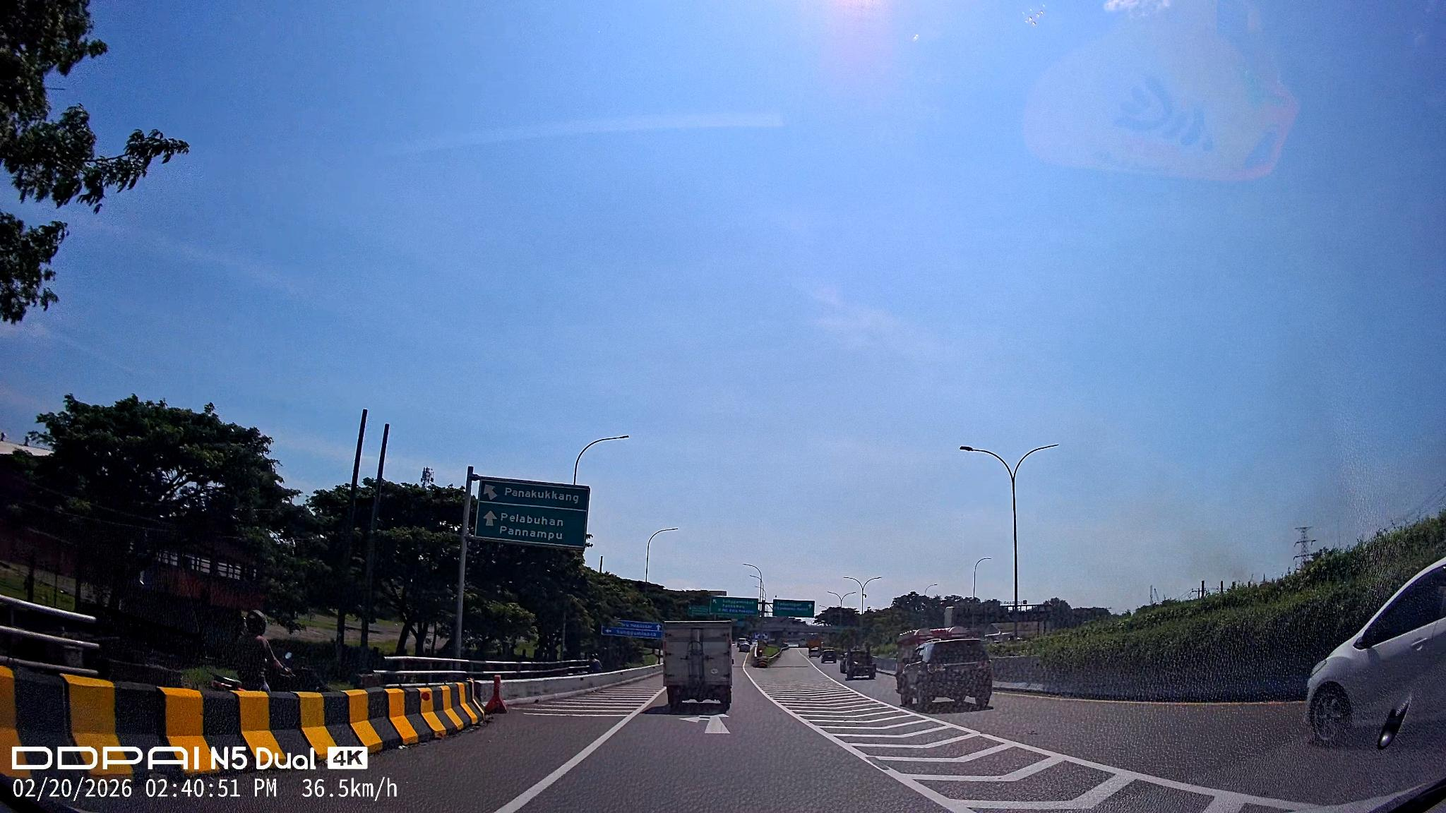rambu_teks: (475, 478, 590, 549)
